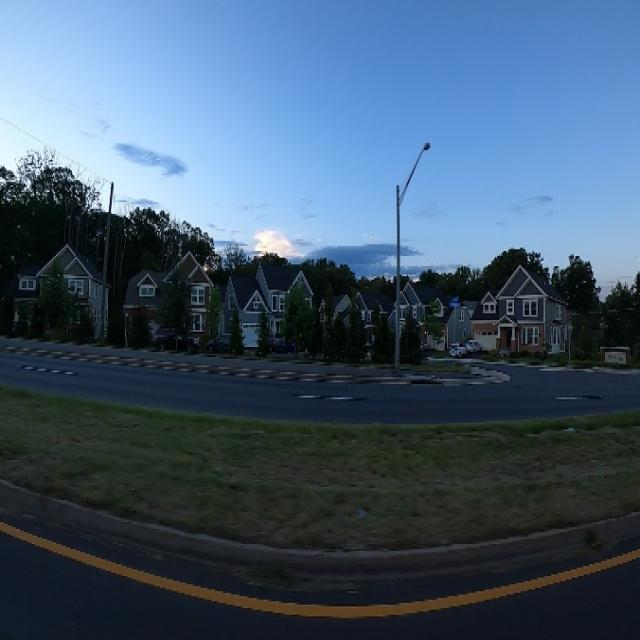cars: (448, 338, 468, 361), (466, 334, 480, 356)
